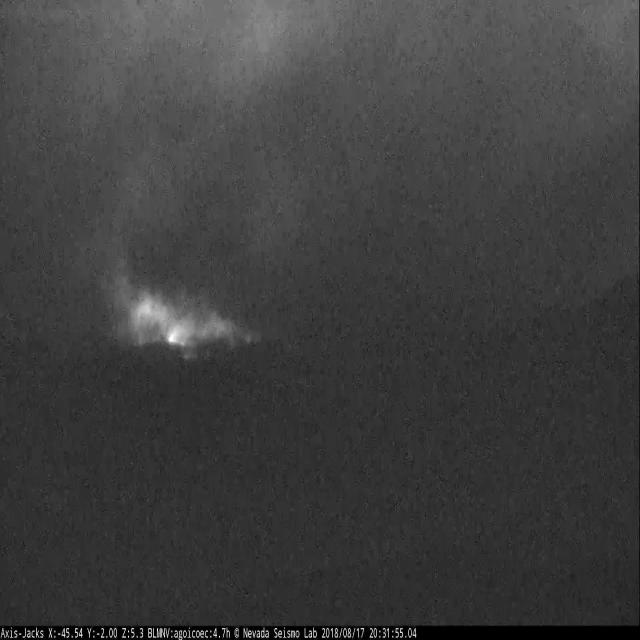smoke: (92, 231, 266, 356)
